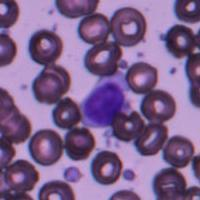L: (80, 73, 130, 127)
